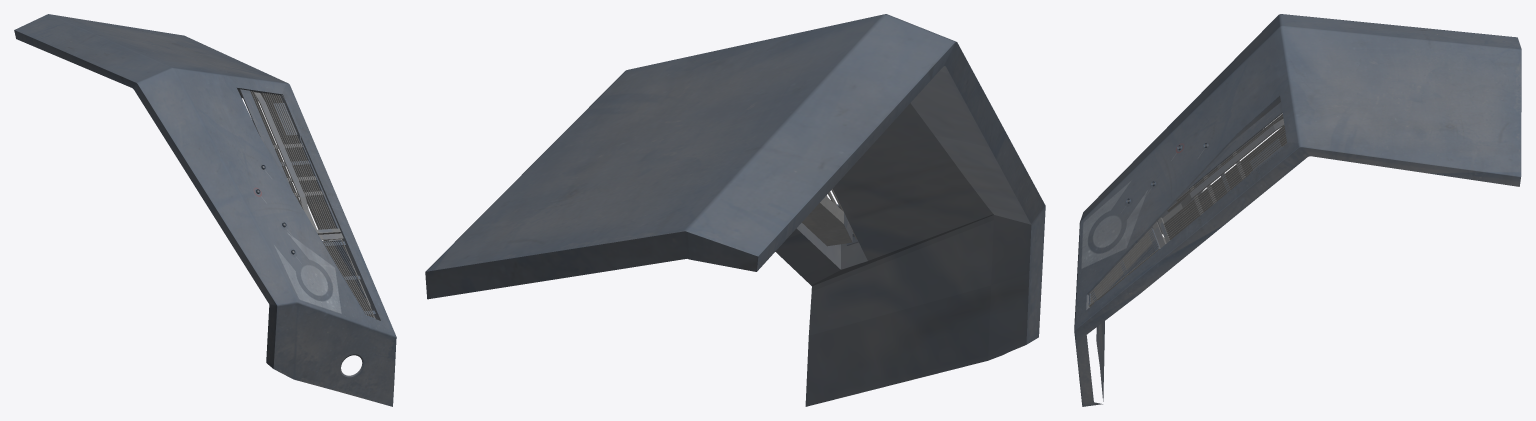
The model's file is console_left_wing.glb.
3 renders of one model, left to right at view 1: azimuth 30°, elevation 25°; view 2: azimuth 150°, elevation 25°; view 3: azimuth 270°, elevation 25°, orthographic. The views are drawn at different scales.
Visible parts, largest first — view 1: models/props_combine/combine_consoles/console_left_wing.vmdl; view 2: models/props_combine/combine_consoles/console_left_wing.vmdl; view 3: models/props_combine/combine_consoles/console_left_wing.vmdl.
Part boxes in pixels (bbox=[...]): models/props_combine/combine_consoles/console_left_wing.vmdl: bbox=[14, 14, 396, 406]; models/props_combine/combine_consoles/console_left_wing.vmdl: bbox=[425, 14, 1045, 406]; models/props_combine/combine_consoles/console_left_wing.vmdl: bbox=[1074, 14, 1521, 406].
Size of the model in its own units: 0.507 by 0.844 by 1.08.
Materials: 1 (1 with a texture image).
